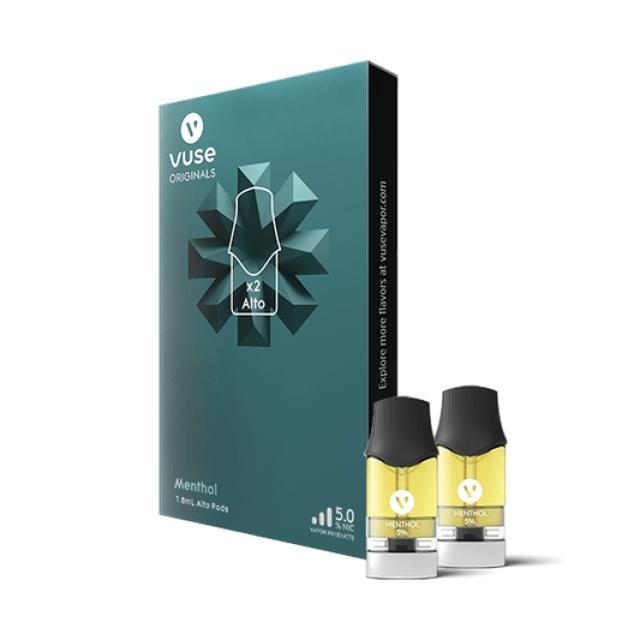Vape-images: (156, 59, 400, 561)
